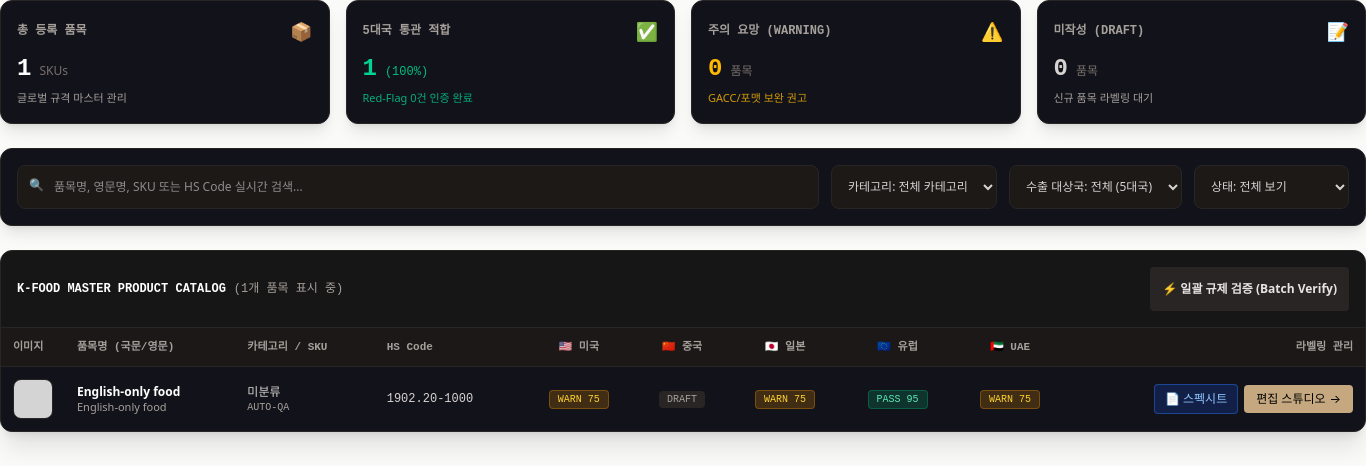
Test case: label dashboard name search finds an English-only unclassified record without a null crash
The width and height of the screenshot is (1366, 466).
In the field with placeholder "품목명, 영문명, SKU 또는 HS Code 실시간 검색...": (418, 187) left=17, top=165, right=819, bottom=209, type "English-only"
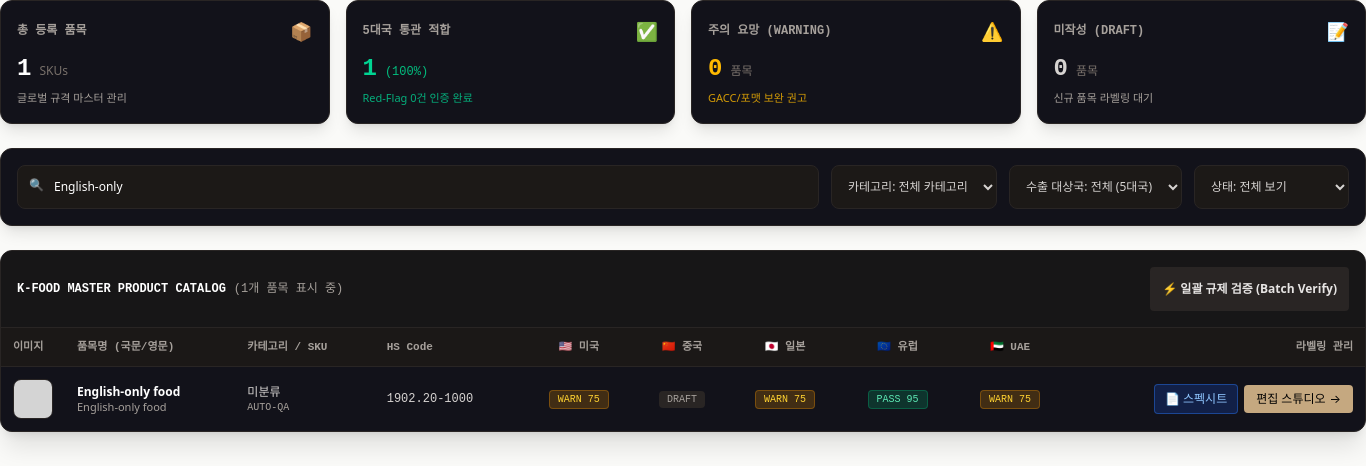
Check: the text "(1개 품목 표시 중)" is shown, box left=234, top=281, right=343, bottom=297
Check: the text "미분류" is shown, box left=247, top=386, right=280, bottom=400
Replace the text in the field with placeholder "품목명, 영문명, SKU 또는 HS Code 실시간 검색..." with "no such item": (418, 187) left=17, top=165, right=819, bottom=209
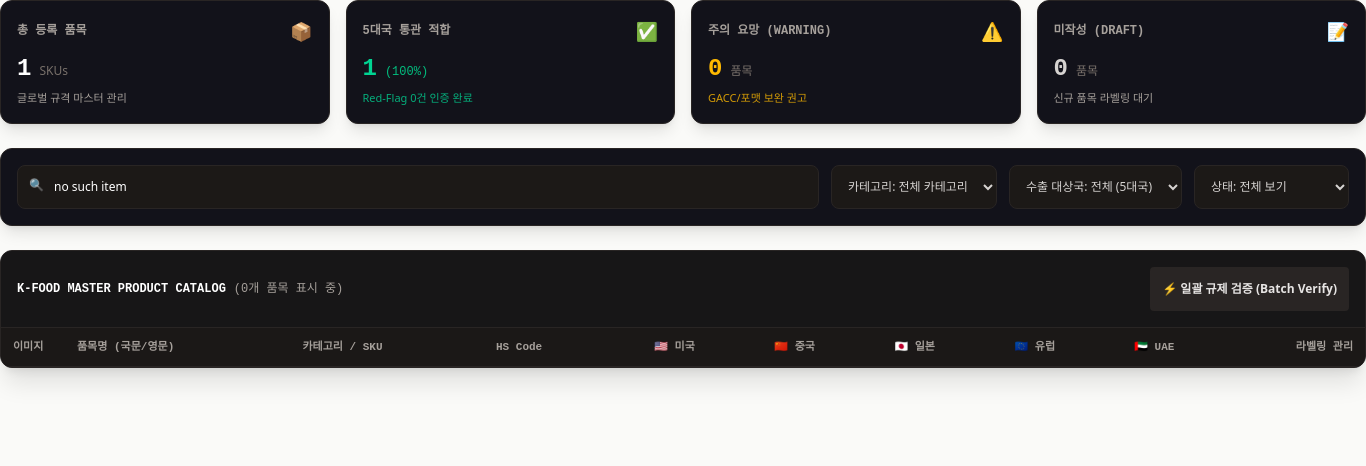
Check: the text "(0개 품목 표시 중)" is shown, box left=234, top=281, right=343, bottom=297
